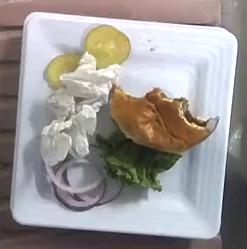burger: (96, 86, 209, 191)
onions: (47, 147, 124, 211)
pickle: (85, 25, 131, 69), (45, 53, 83, 89)
